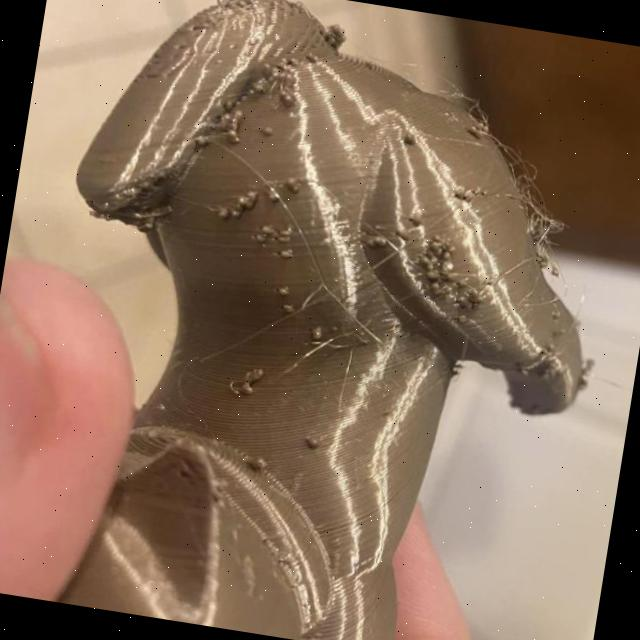blobs: (324, 23, 350, 50), (467, 120, 492, 145), (243, 362, 267, 386), (426, 237, 448, 260), (262, 184, 284, 206), (368, 231, 390, 253), (250, 229, 272, 250), (191, 127, 209, 152), (248, 454, 268, 476), (276, 86, 296, 106), (469, 289, 488, 310), (278, 298, 296, 320), (415, 250, 434, 270), (403, 132, 422, 151), (274, 244, 292, 264), (282, 177, 300, 196), (458, 184, 477, 202), (304, 434, 324, 451), (261, 122, 278, 141), (225, 130, 244, 146), (227, 110, 247, 125), (442, 258, 459, 275), (308, 326, 326, 342), (282, 222, 296, 242), (276, 232, 292, 248), (424, 270, 442, 284), (276, 284, 291, 300), (452, 314, 468, 329), (260, 223, 272, 237)
stringing: (525, 212, 558, 256), (436, 81, 469, 107), (517, 179, 545, 208), (503, 154, 532, 182), (467, 95, 488, 124)
